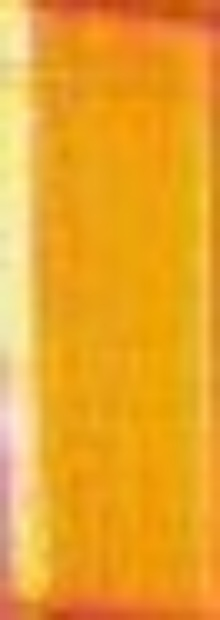Diode: (1, 1, 57, 600)
